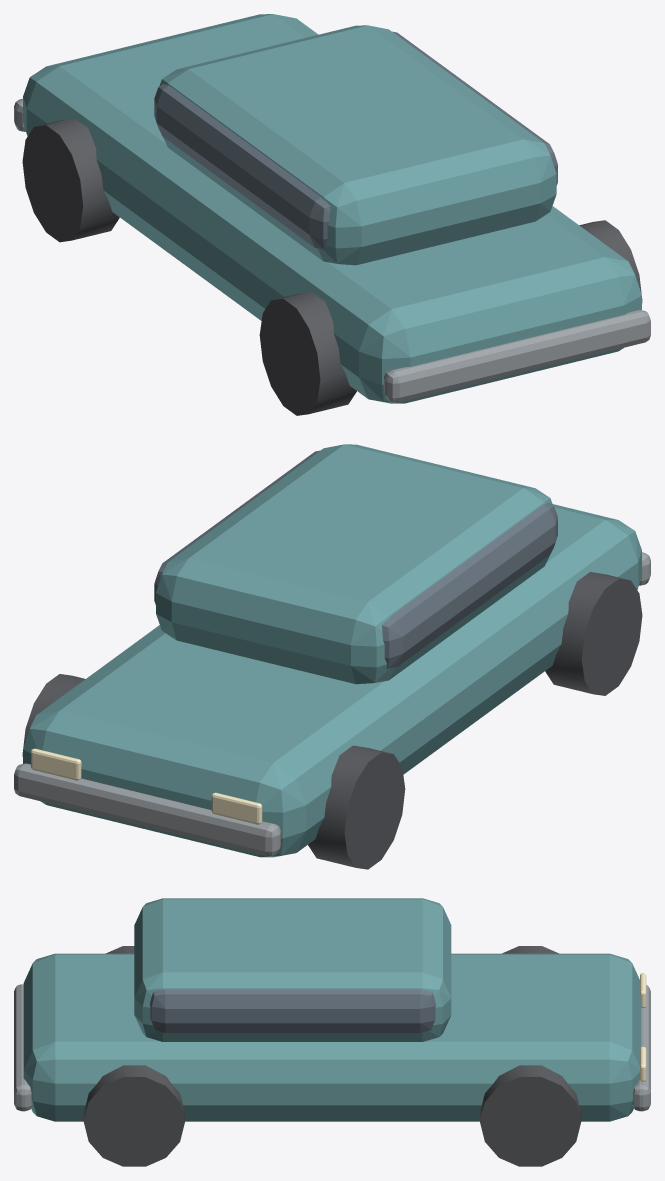
The model's file is car.glb.
The picture shows the model from 3 angles, top to bottom: view 1: azimuth 30°, elevation 25°; view 2: azimuth 150°, elevation 25°; view 3: azimuth 270°, elevation 25°; orthographic projection. The views are drawn at different scales.
Parts seen in each view (by area): view 1: car_Palette; view 2: car_Palette, car_Glow; view 3: car_Palette, car_Glow.
Part boxes in pixels (x1,y1,x2,y2): car_Palette: [14, 14, 650, 415]; car_Palette: [14, 444, 650, 869]; car_Glow: [31, 748, 262, 824]; car_Palette: [14, 898, 650, 1166]; car_Glow: [640, 973, 646, 1081].
Bounding box in the file's own units: 1.96 × 1.15 × 4.02.
